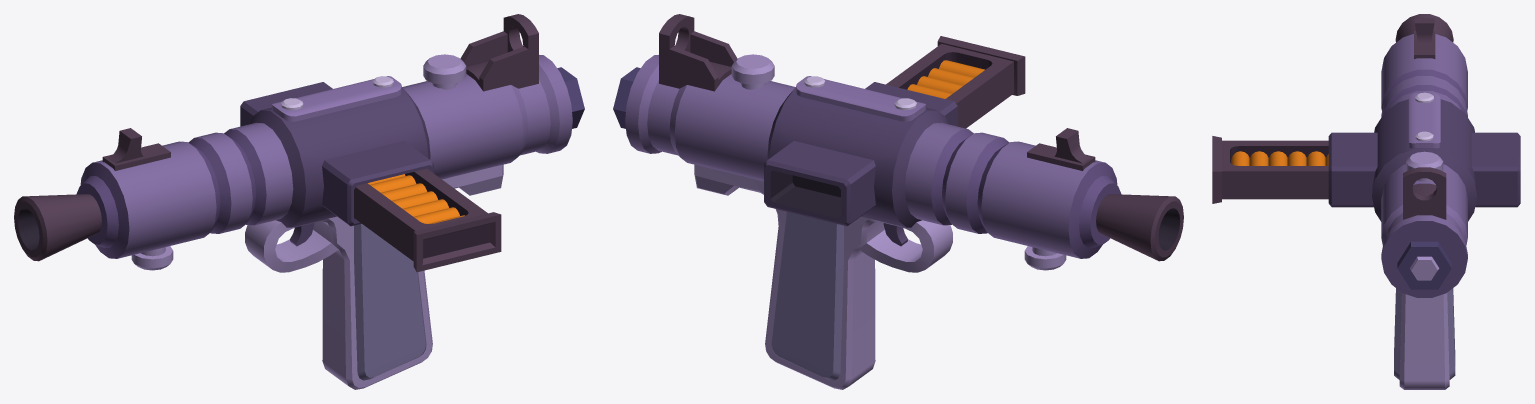
Rendered from Weapon11.fbx.
3 views of the same model, side by side, from view 1: azimuth 30°, elevation 25°; view 2: azimuth 150°, elevation 25°; view 3: azimuth 270°, elevation 25° (orthographic). The views are drawn at different scales.
Visible parts, largest first — view 1: Weapon11; view 2: Weapon11; view 3: Weapon11.
Part boxes in pixels (x1,y1,x2,y2): Weapon11: (14,14,584,389); Weapon11: (613,14,1183,389); Weapon11: (1212,14,1520,389).
Size of the model in its own units: 84.07 by 47.12 by 47.35.
